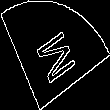M_SW: (30, 22, 80, 88)
